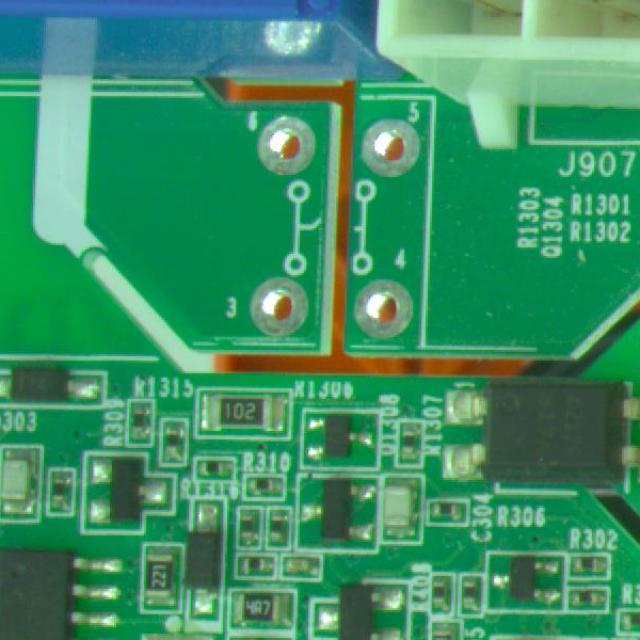Insufficient solder: (362, 113, 428, 187), (248, 273, 314, 344), (354, 274, 417, 343), (256, 114, 321, 180)
